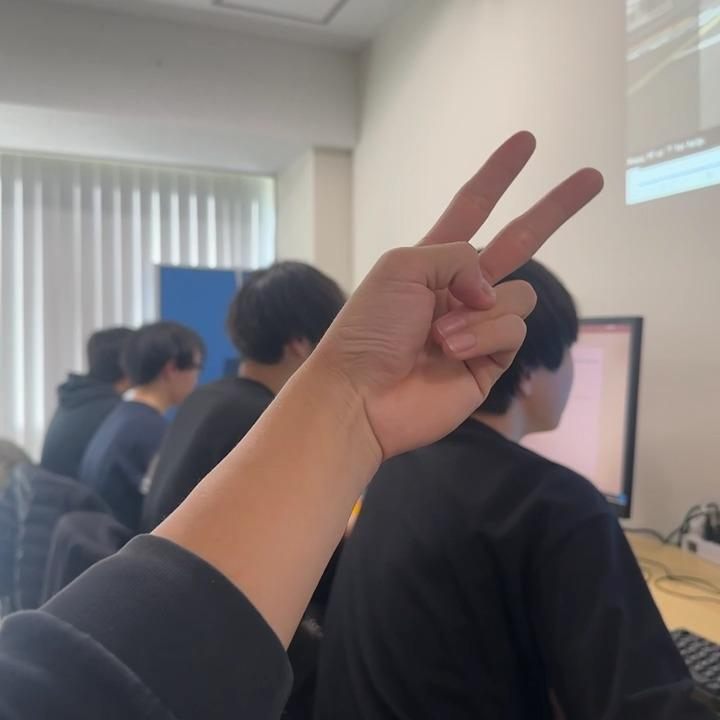without_gloves: (324, 82, 596, 492)
